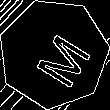M_NW: (20, 21, 87, 87)
